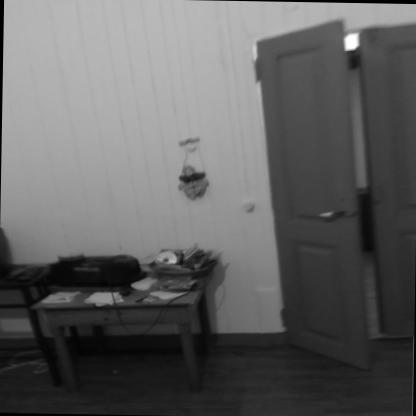semi: (238, 10, 416, 356)
